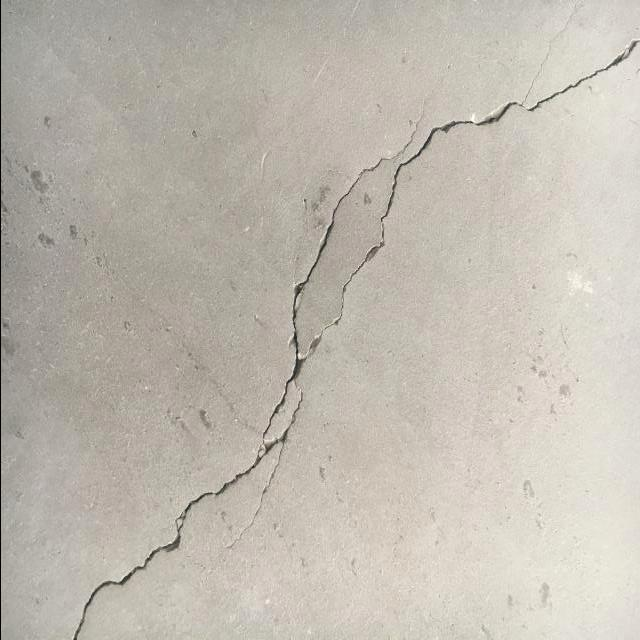SurfaceCrack: (3, 0, 640, 639)
